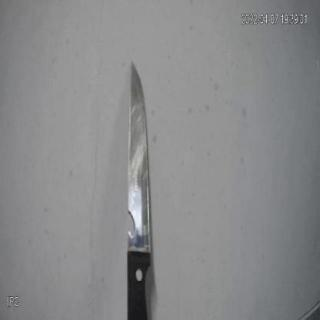knife: (126, 52, 162, 320)
